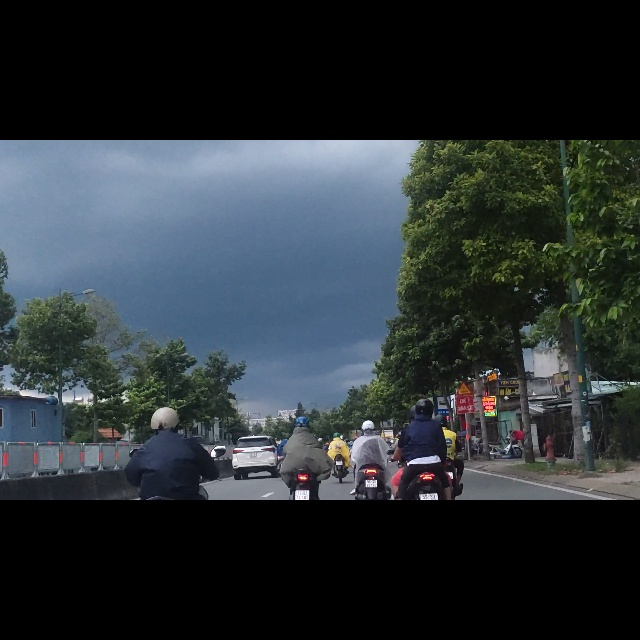bien_hieu_lenh: (437, 456, 452, 491), (456, 430, 472, 453)
